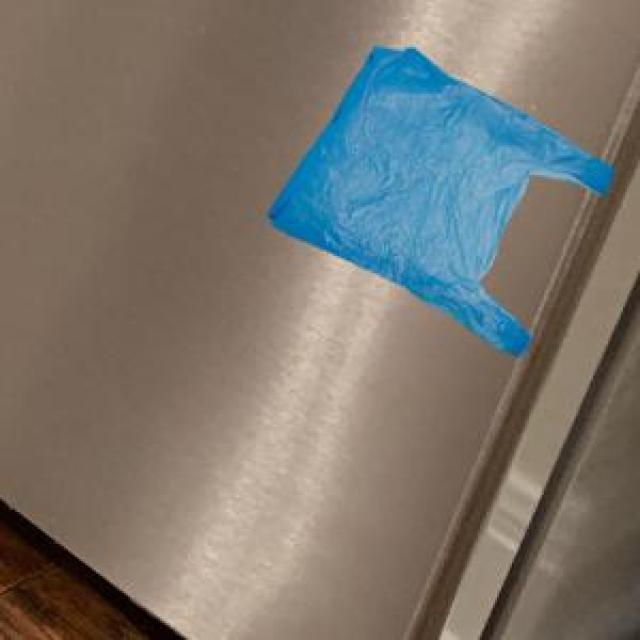plastic: (243, 20, 624, 379)
